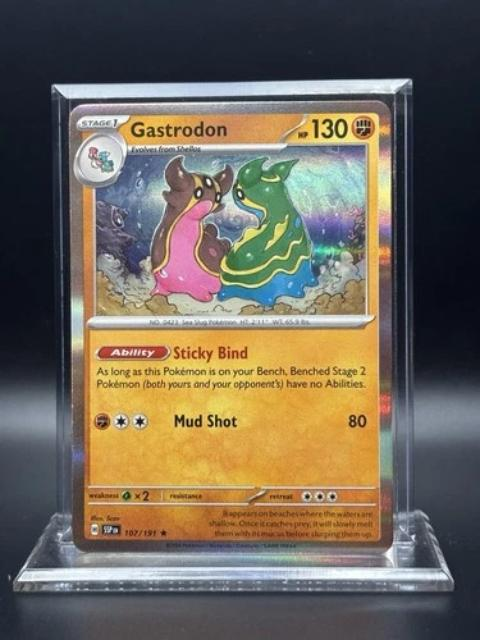Card: (59, 91, 393, 557)
Name: (125, 115, 228, 143)
